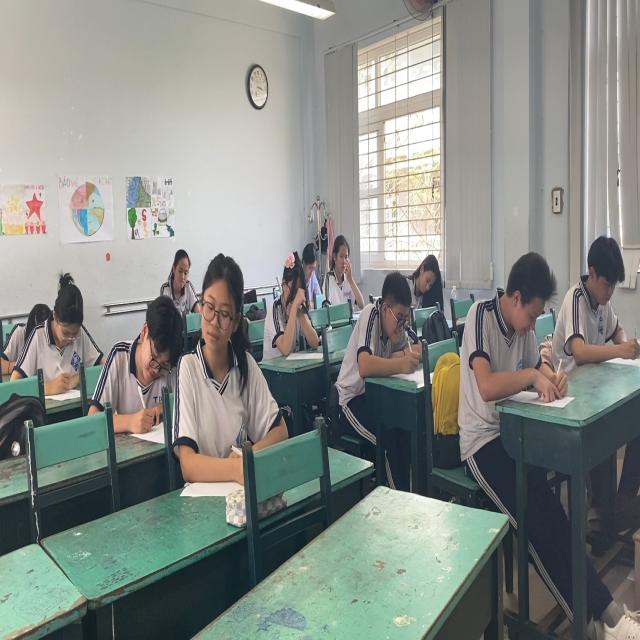cheating: (182, 254, 269, 457)
not_cheating: (458, 247, 549, 399), (553, 216, 638, 368), (90, 302, 183, 437), (22, 258, 104, 395), (352, 264, 422, 378), (267, 250, 317, 344), (320, 216, 366, 305), (158, 237, 199, 309), (405, 247, 442, 302)
